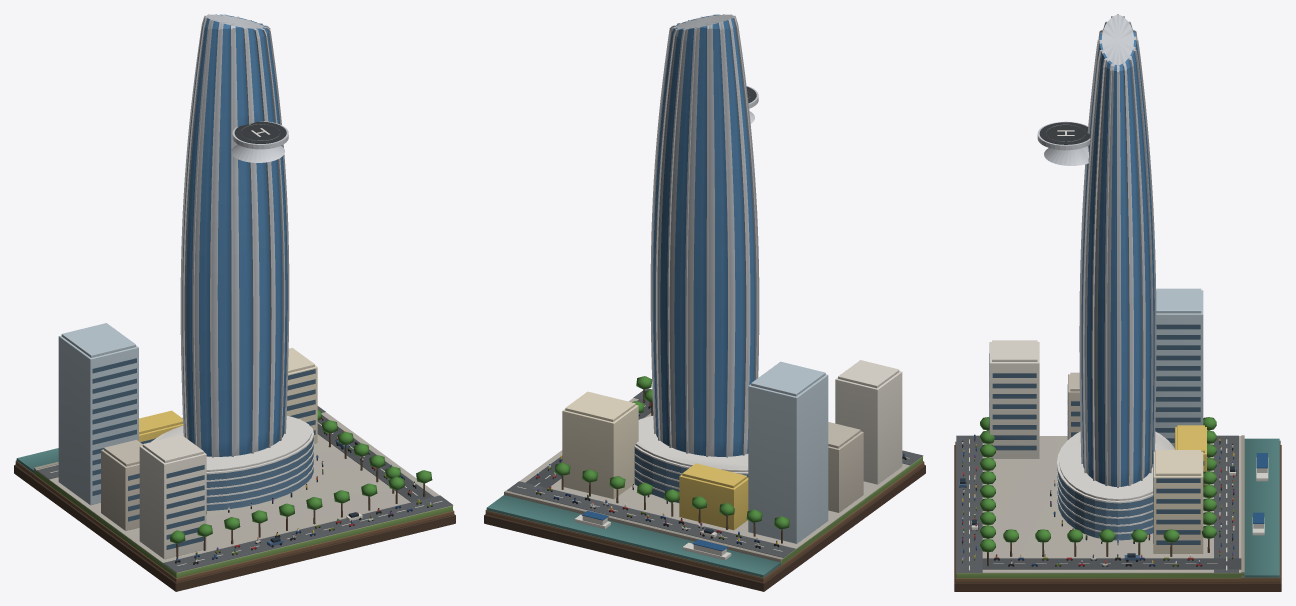
File: bitexco.glb
3 views of the same model, side by side, from view 1: azimuth 30°, elevation 25°; view 2: azimuth 150°, elevation 25°; view 3: azimuth 270°, elevation 25° (orthographic).
Visible parts, largest first — view 1: BX_building; view 2: BX_building; view 3: BX_building.
Boxes of the visible parts, x1,y1,x2,y2 form: BX_building: [14, 14, 455, 591]; BX_building: [484, 14, 925, 591]; BX_building: [954, 14, 1281, 591].
Bounding box in the file's own units: 92 × 153 × 92.
Materials: 1 (1 with a texture image).
